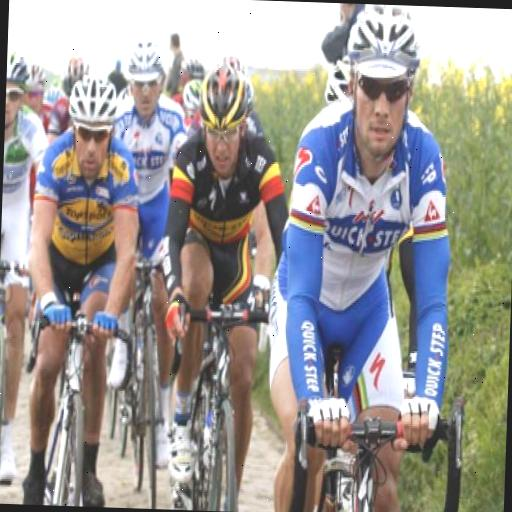helmet: (280, 1, 476, 512), (13, 40, 150, 502), (156, 40, 282, 508)
